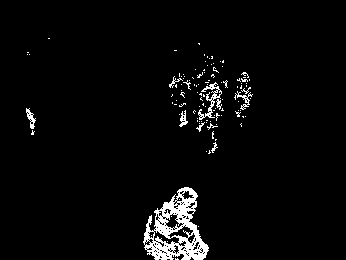person: (143, 186, 211, 259), (169, 71, 191, 127), (233, 72, 254, 129)
